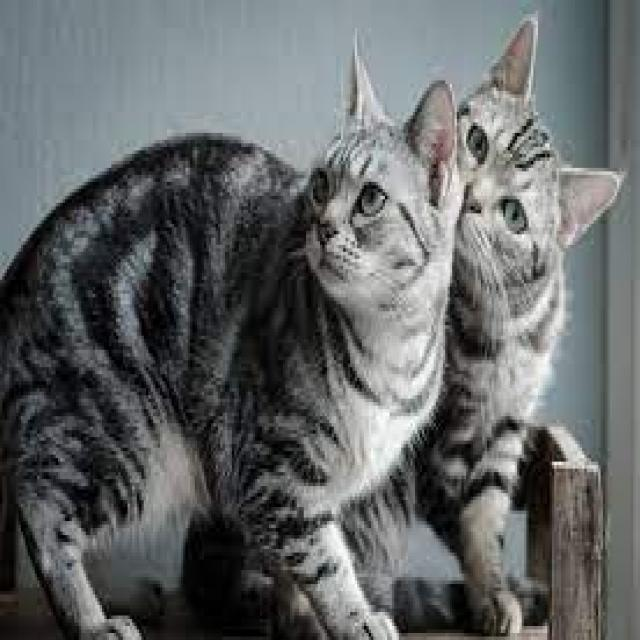cat-face: (286, 76, 494, 327)
